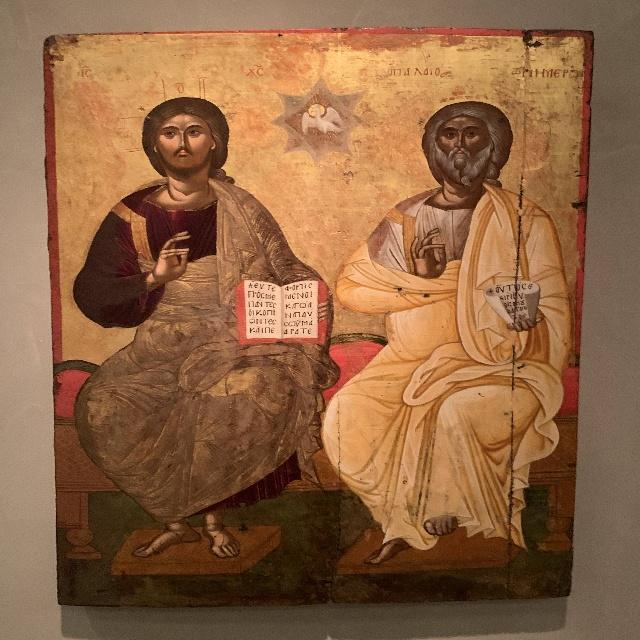aura: (114, 74, 251, 189)
book: (237, 277, 332, 345)
christ: (70, 69, 335, 568)
dove: (281, 80, 364, 169)
father: (336, 99, 574, 557)
scroll: (483, 286, 548, 332)
